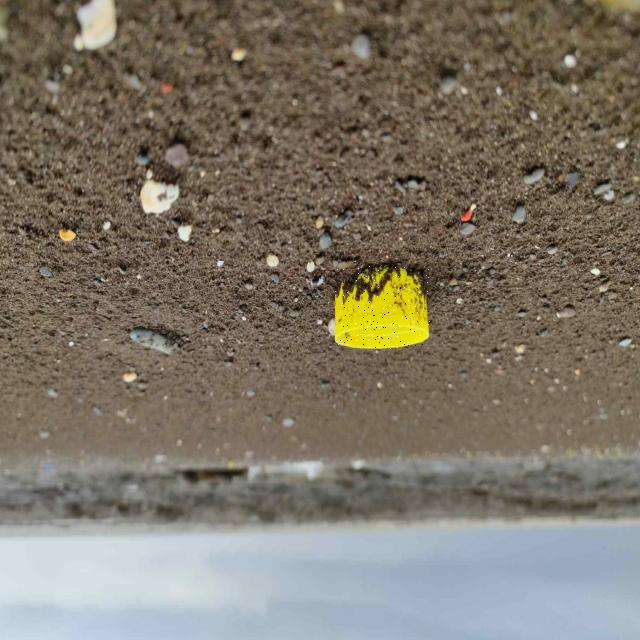plastic: (335, 266, 430, 348)
